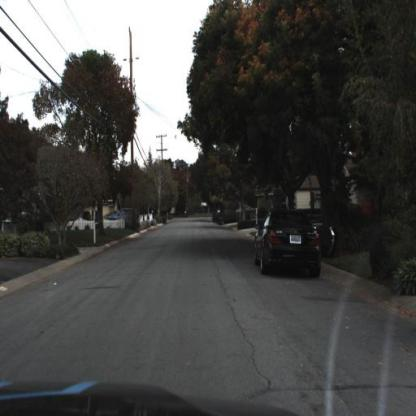car: (250, 207, 327, 284), (254, 207, 335, 280)
